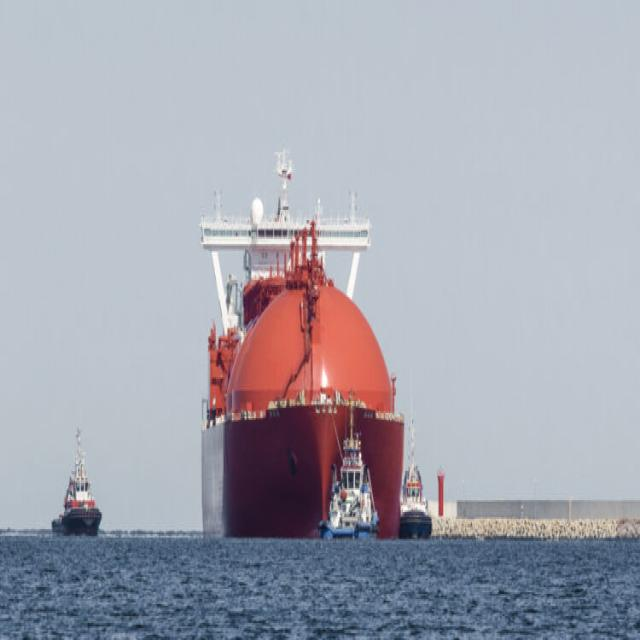boat: (194, 160, 410, 560)
